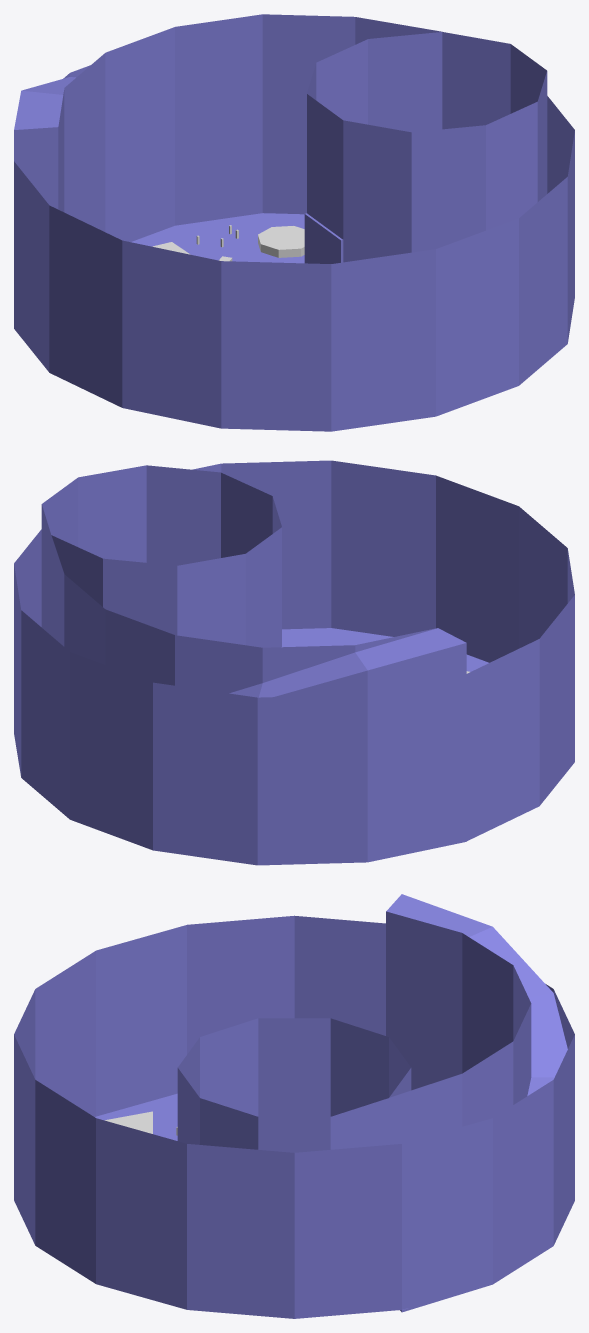
File: Tower2.fbx
The picture shows the model from 3 angles, top to bottom: view 1: azimuth 30°, elevation 25°; view 2: azimuth 150°, elevation 25°; view 3: azimuth 270°, elevation 25°; orthographic projection.
Visible parts, largest first — view 1: Circle.001, Circle.002, Cylinder.001, Circle.003, Circle.004; view 2: Circle.001, Circle.002; view 3: Circle.001, Circle.002, Cube.054.
Boxes of the visible parts, box(x1,y1,x2,y2) form: Circle.001: box(14, 14, 574, 431); Circle.002: box(307, 32, 547, 262); Cylinder.001: box(258, 226, 304, 257); Circle.003: box(304, 213, 324, 263); Circle.004: box(322, 226, 343, 263); Circle.001: box(14, 460, 574, 865); Circle.002: box(41, 465, 281, 647); Circle.001: box(14, 894, 574, 1318); Circle.002: box(177, 1018, 411, 1152); Cube.054: box(105, 1111, 152, 1133).
Bounding box in the file's own units: 12785 × 5022 × 12785.
